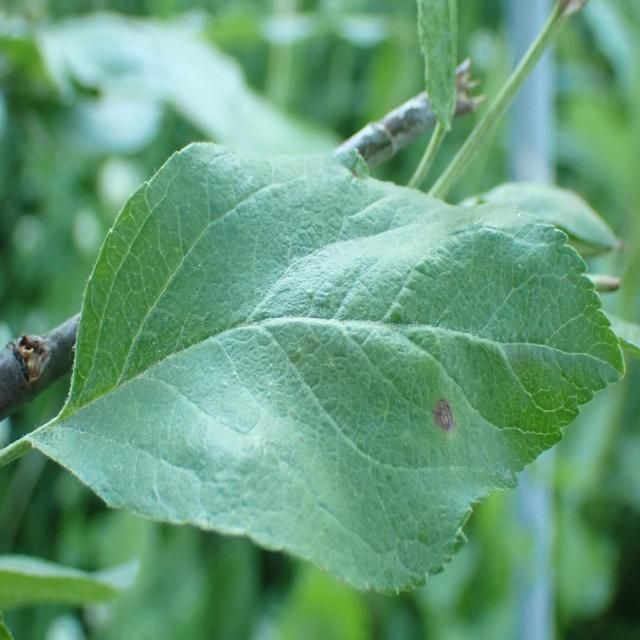Black Rot: (414, 381, 476, 466)
